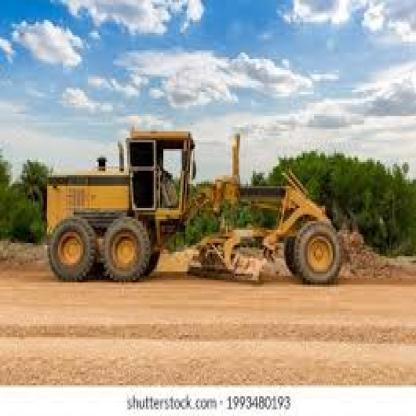bull_dozer/loader/grader: (33, 118, 372, 311)
